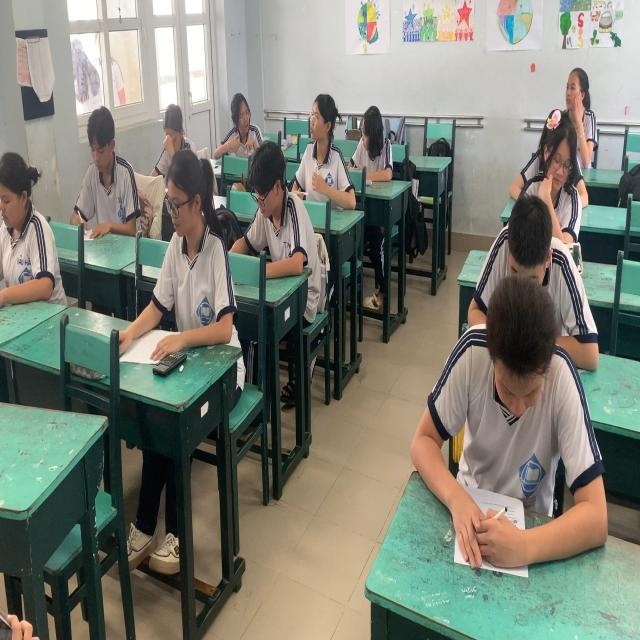cheating: (225, 70, 264, 166), (354, 96, 392, 190)
not_cheating: (454, 282, 596, 522), (161, 143, 227, 355), (493, 186, 578, 316), (0, 138, 59, 311), (243, 132, 306, 292), (74, 99, 142, 241), (529, 108, 581, 241), (304, 91, 348, 223), (560, 52, 600, 136), (154, 96, 185, 170)
